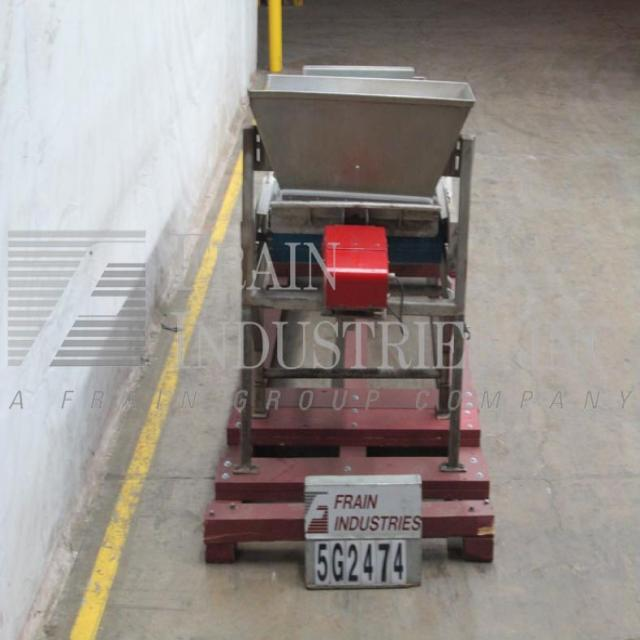conveyor: (160, 25, 579, 596)
